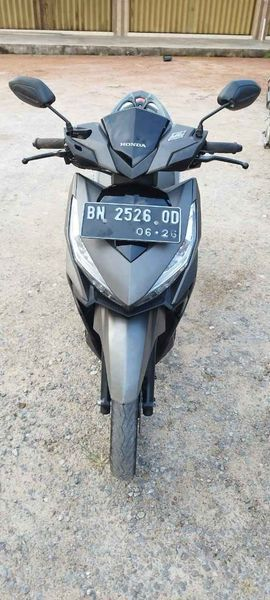plate: (86, 200, 183, 244)
